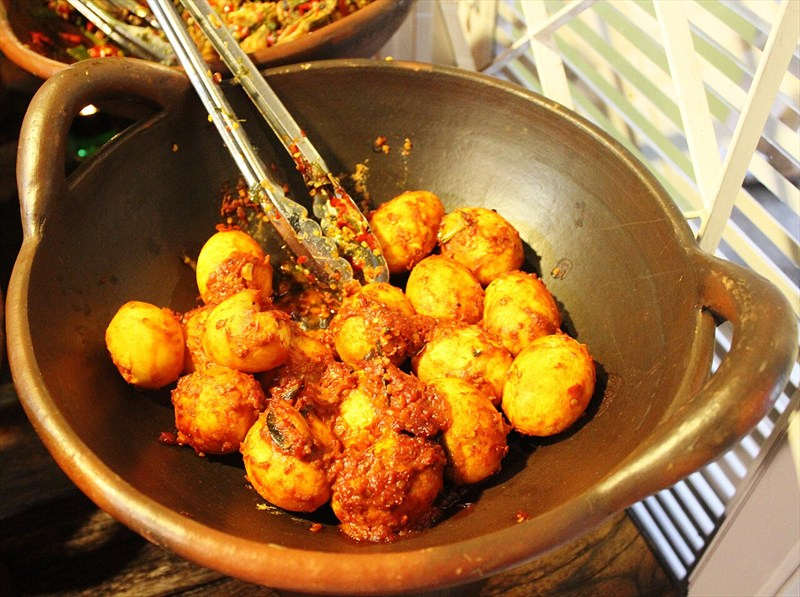Telur Balado: (67, 79, 688, 523)
